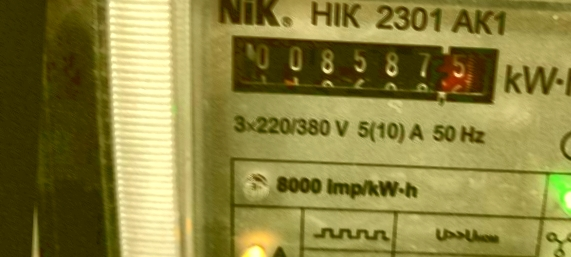0: (253, 40, 271, 70), (287, 43, 305, 71)
5: (450, 51, 469, 80), (351, 45, 369, 74)
7: (414, 48, 433, 78)
8: (382, 47, 401, 78), (319, 45, 336, 74)
screen: (211, 17, 517, 117)
